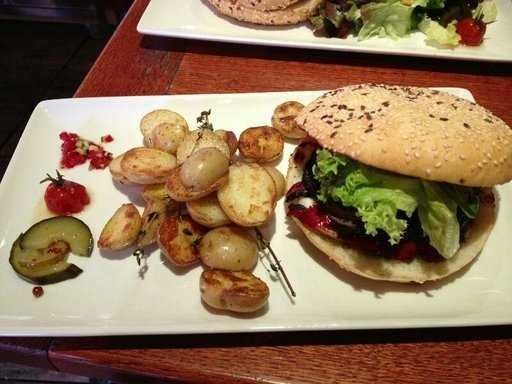hamburger: (284, 83, 499, 276)
